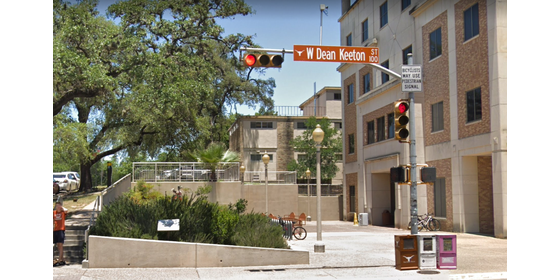bicyclists must use ped signal sign: (400, 62, 424, 93)
